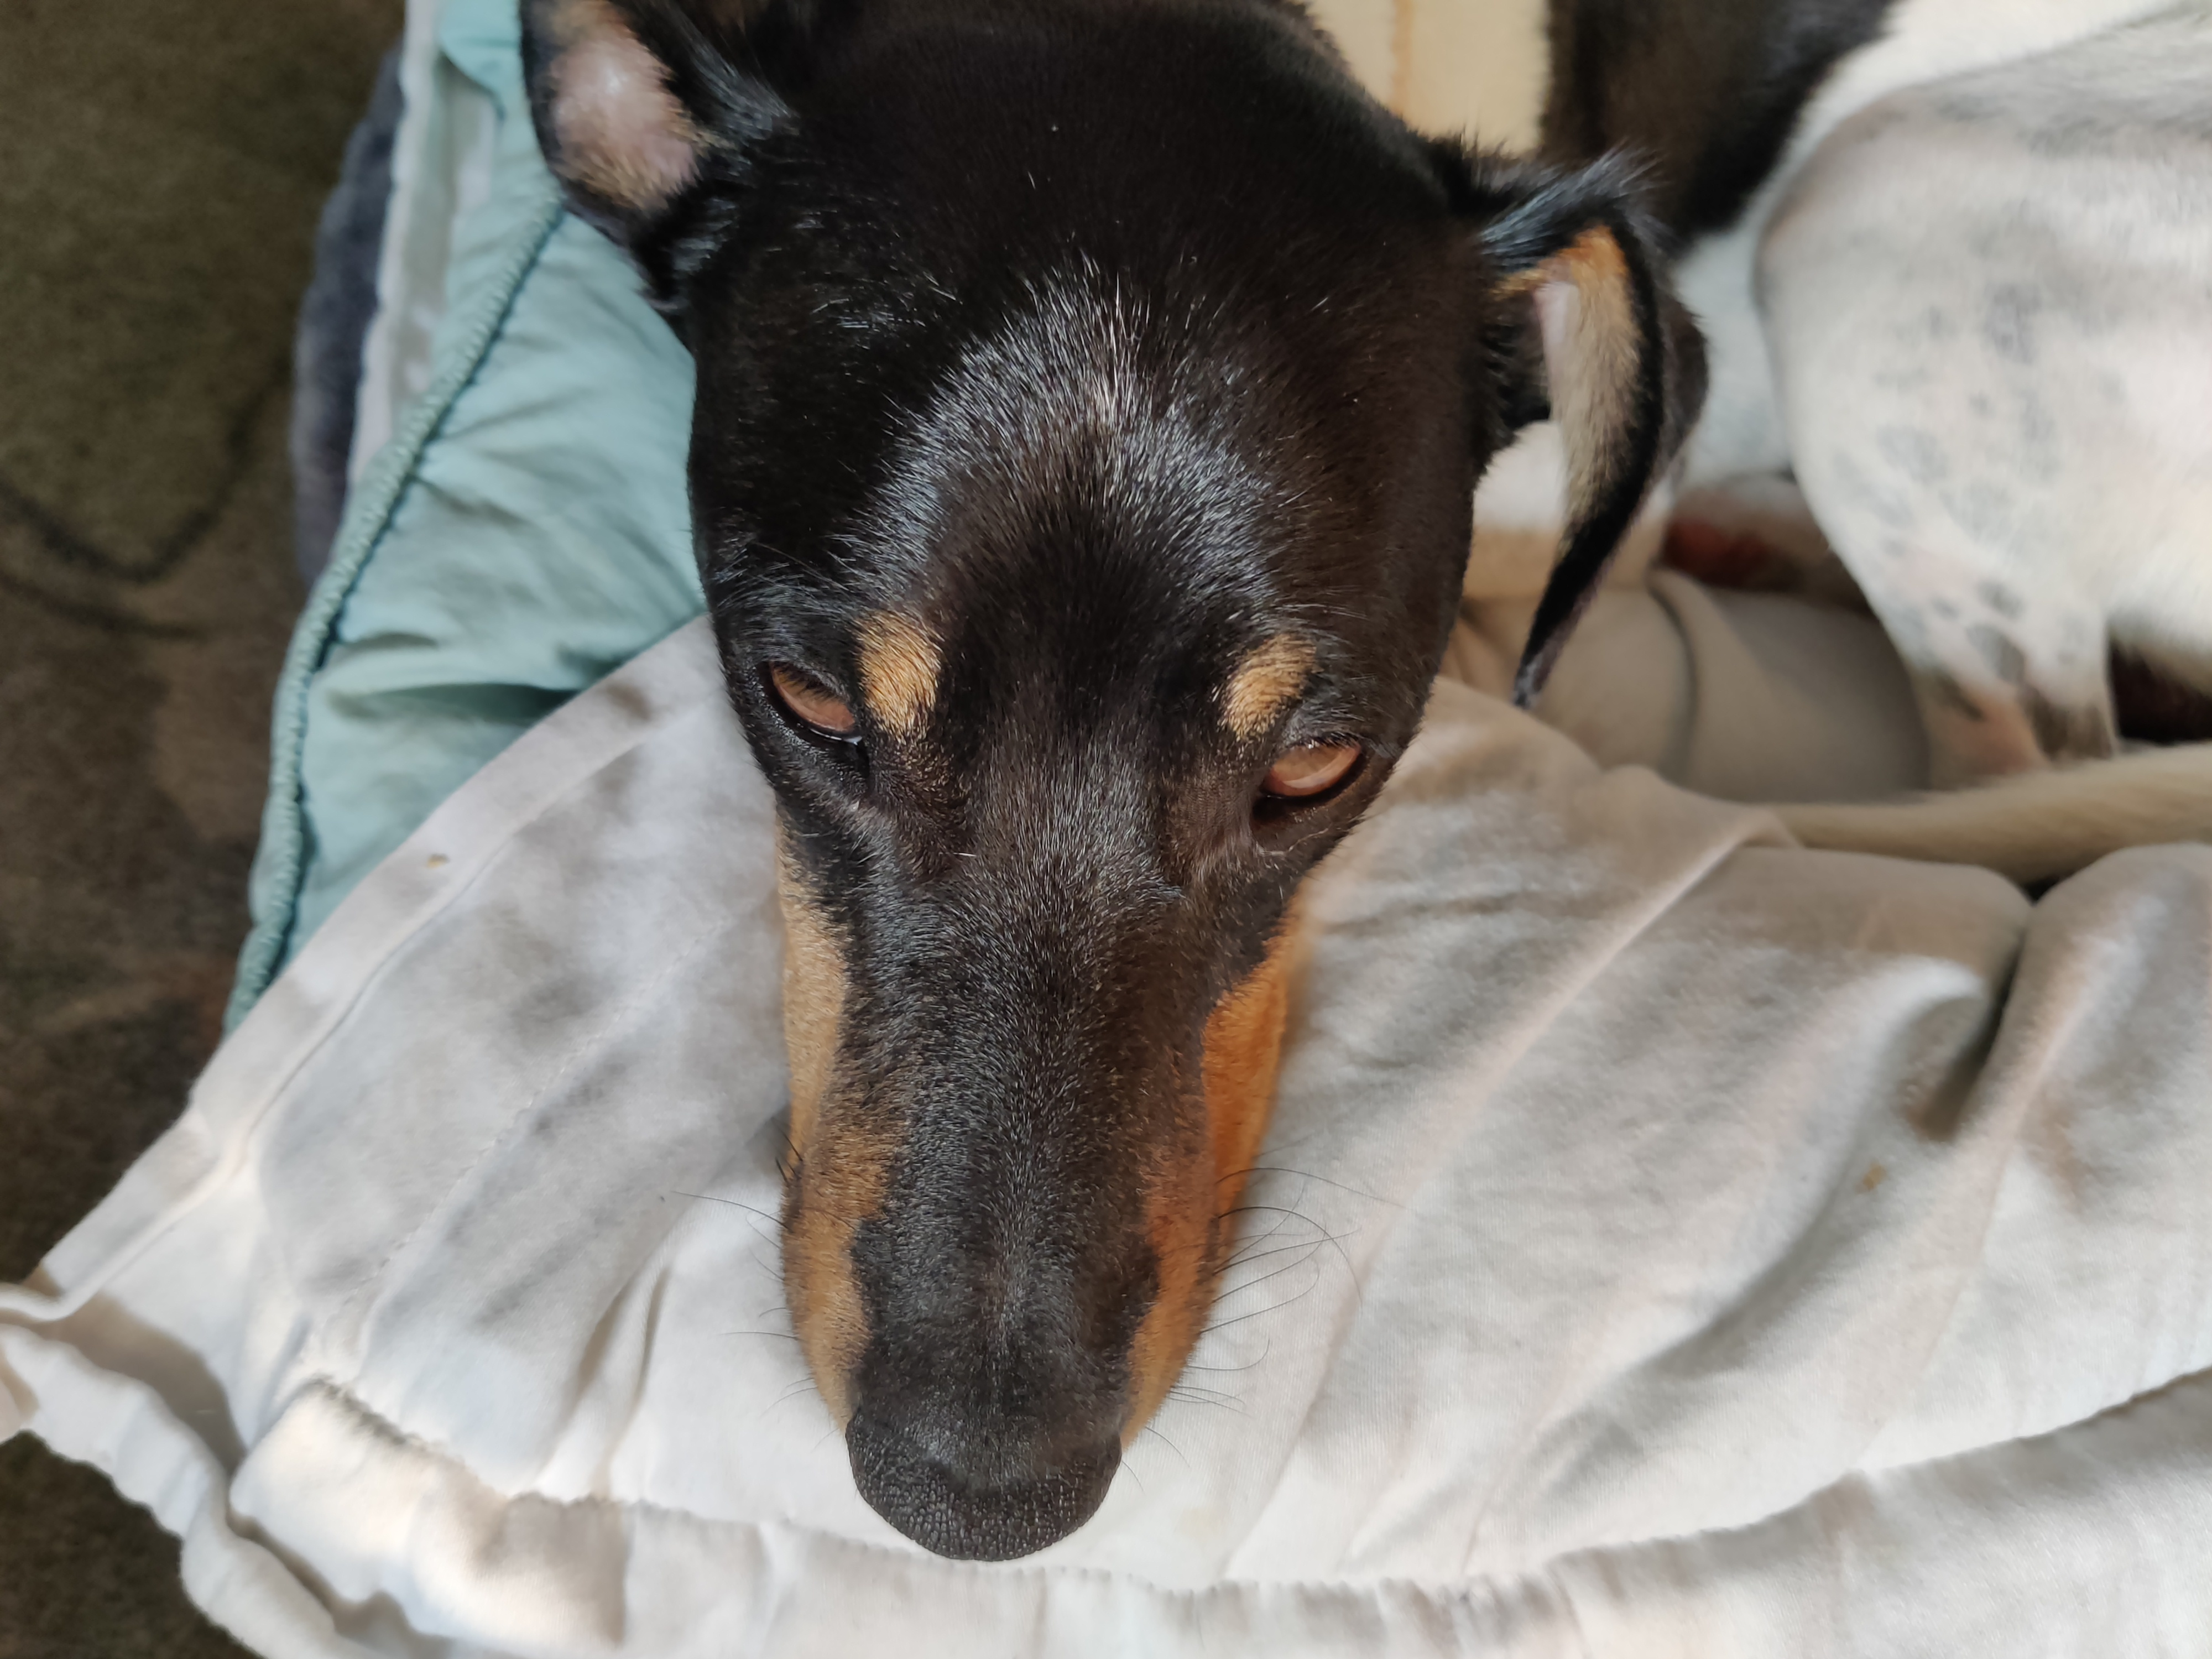Dog: (496, 0, 2212, 1577)
